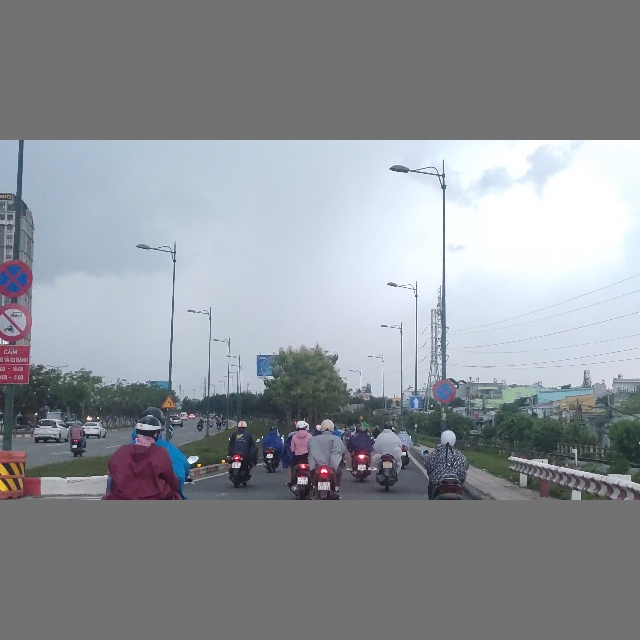I.407a: (410, 396, 423, 409)
P.111: (0, 302, 31, 342)
P.130: (0, 260, 32, 297)
P.131a: (433, 380, 456, 402)
W.201a: (162, 396, 176, 408)
